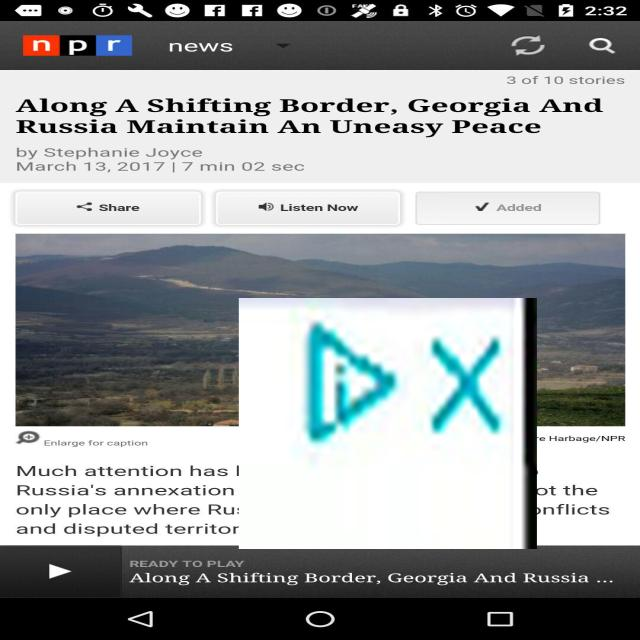sneaking: (239, 298, 537, 549)
